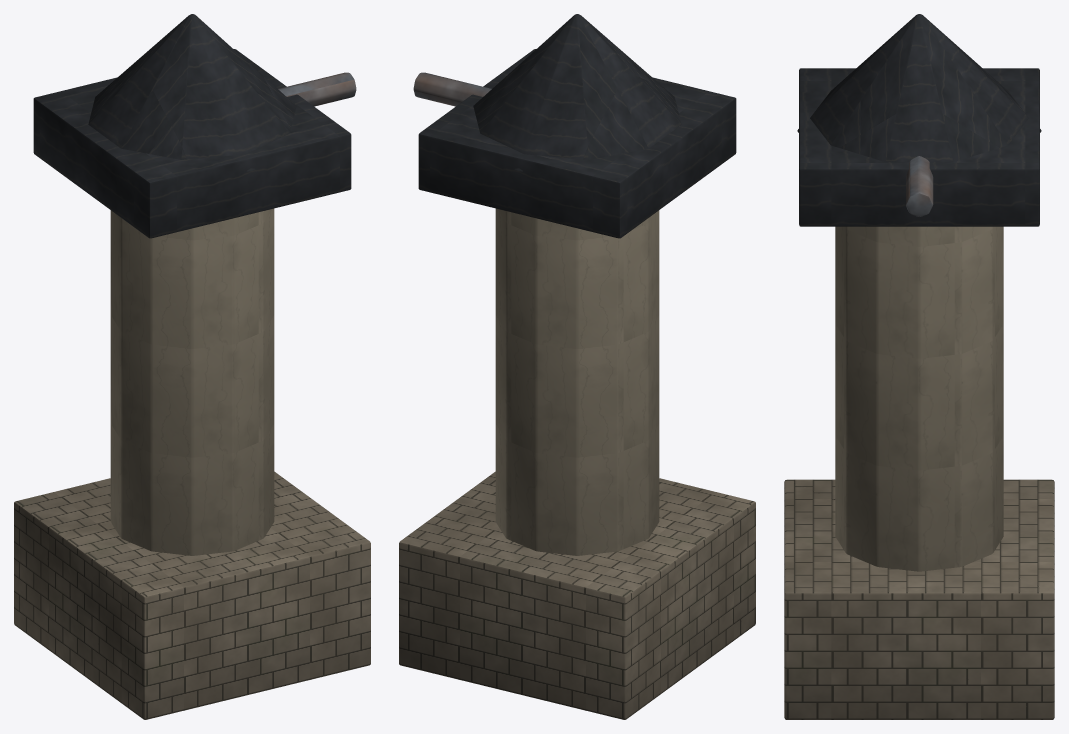
File: building_turret.fbx
3 renders of one model, left to right at view 1: azimuth 30°, elevation 25°; view 2: azimuth 150°, elevation 25°; view 3: azimuth 270°, elevation 25°, orthographic. The views are drawn at different scales.
Visible parts, largest first — view 1: building_turret; view 2: building_turret; view 3: building_turret.
Boxes of the visible parts, <box> form: building_turret: <box>14,14,370,719</box>; building_turret: <box>399,14,755,719</box>; building_turret: <box>784,14,1054,719</box>.
Bounding box in the file's own units: 2.75 × 6.1 × 2.3.
